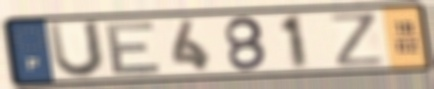1: (279, 11, 315, 72)
4: (170, 17, 214, 74)
8: (222, 14, 269, 73)
E: (104, 19, 165, 77)
U: (45, 19, 107, 81)
Z: (327, 11, 388, 69)
